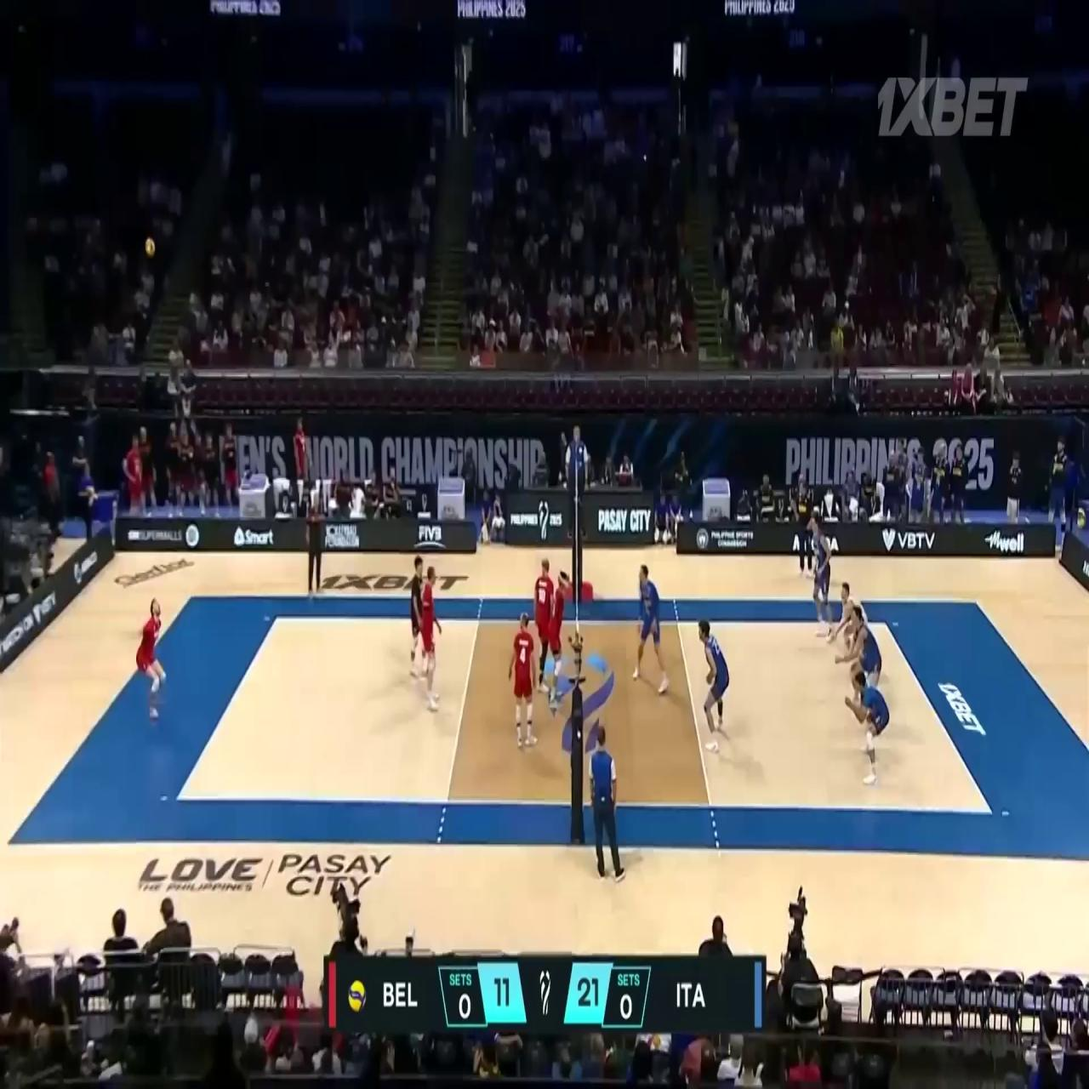ball: (145, 237, 155, 255)
